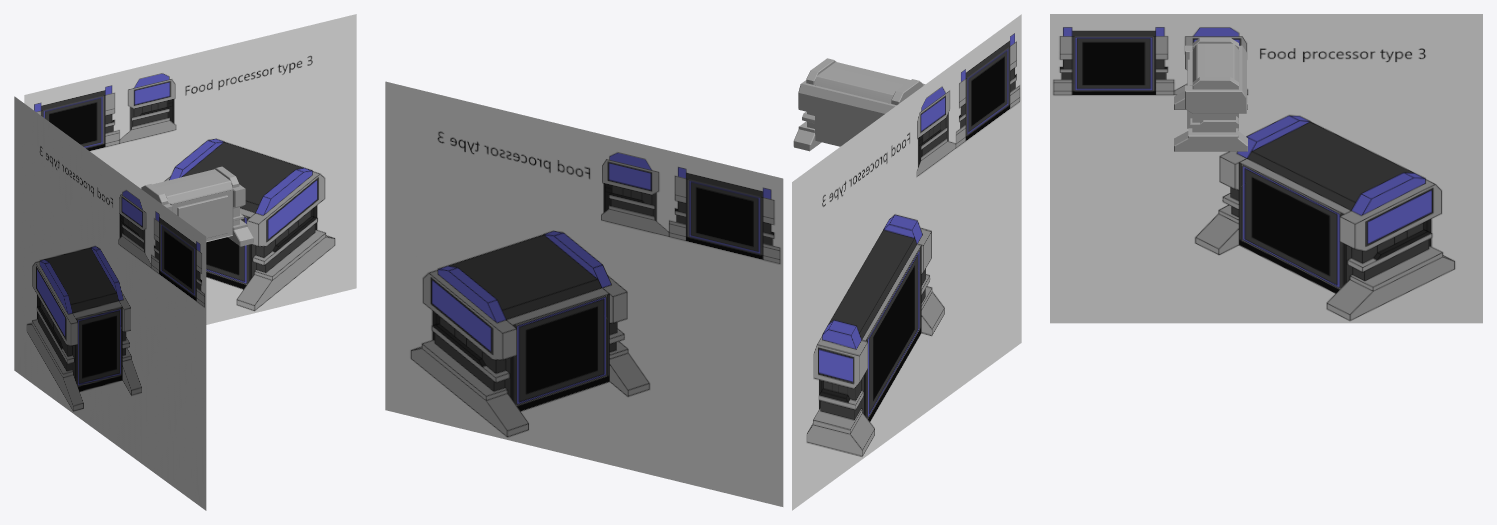
File: Device-7.fbx
3 views of the same model, side by side, from view 1: azimuth 30°, elevation 25°; view 2: azimuth 150°, elevation 25°; view 3: azimuth 270°, elevation 25° (orthographic). The views are drawn at different scales.
Parts seen in each view (by area): view 1: pPlane3, pPlane2, pCube7, pCube3, polySurface2, polySurface9; view 2: pPlane3, pPlane2, pCube2, pCube3, polySurface4, polySurface2; view 3: pPlane2, pCube2, polySurface9, pCube3, polySurface2, polySurface11.
Part boxes in pixels (x1,y1,x2,y2): pPlane3: (24,14,356,324); pPlane2: (14,96,206,510); pCube7: (171,190,232,241); pCube3: (152,169,232,203); polySurface2: (141,166,239,204); polySurface9: (227,219,253,246); pPlane3: (385,81,783,506); pPlane2: (792,14,1021,510); pCube2: (798,80,925,126); pCube3: (814,62,910,103); polySurface4: (815,85,867,146); polySurface2: (806,58,923,105); pPlane2: (1050,14,1482,323); pCube2: (1185,45,1246,113); polySurface9: (1174,91,1247,151); pCube3: (1192,43,1239,85); polySurface2: (1192,37,1238,89); polySurface11: (1192,113,1235,132).
Size of the model in its own units: 31.22 by 24.01 by 30.44.
Materials: 2 (1 with a texture image).
